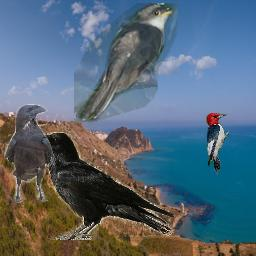Crow: (28, 132, 174, 240), (4, 104, 55, 203)
Cuckoo: (74, 3, 178, 125)
Woodpecker: (205, 113, 231, 176)
